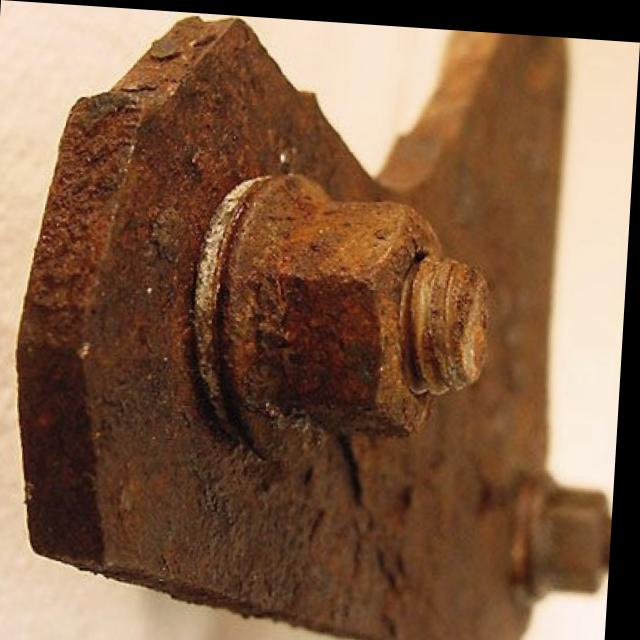Rusty bolt: (221, 191, 489, 444)
